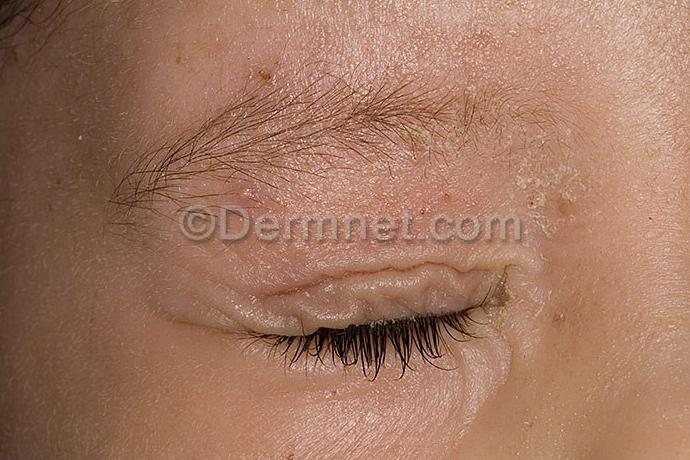eritema 1: (220, 173, 512, 283)
xerosis 1: (403, 106, 620, 245)
